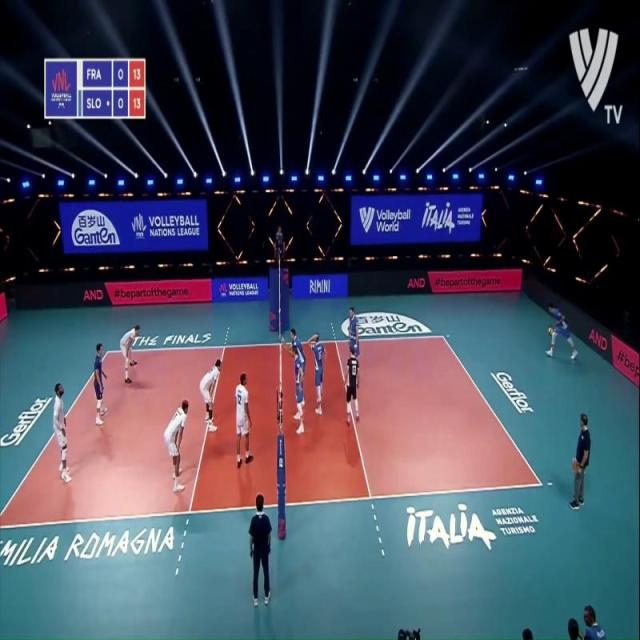volleyball: (548, 326, 554, 336)
